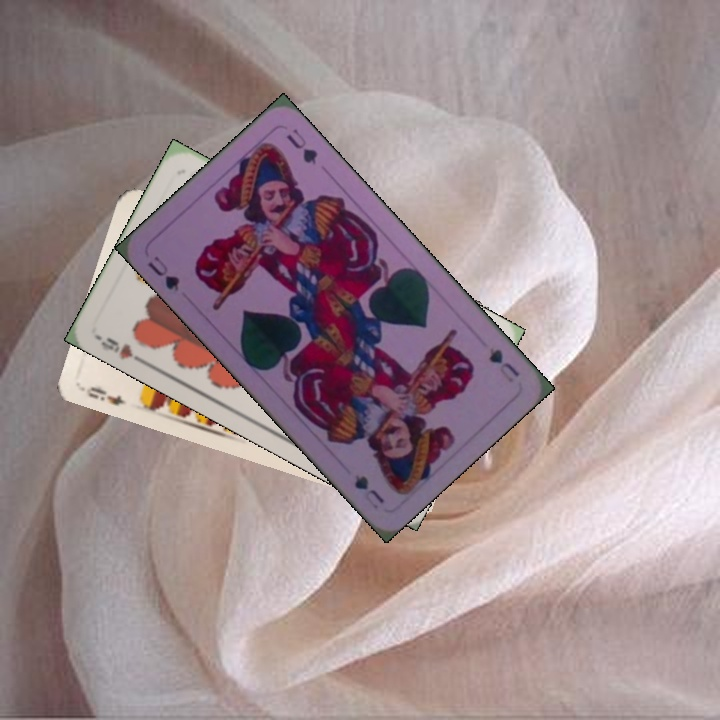E9: (79, 382, 129, 408)
GU: (143, 252, 183, 294), (484, 343, 522, 386)
H9: (93, 332, 148, 367)
